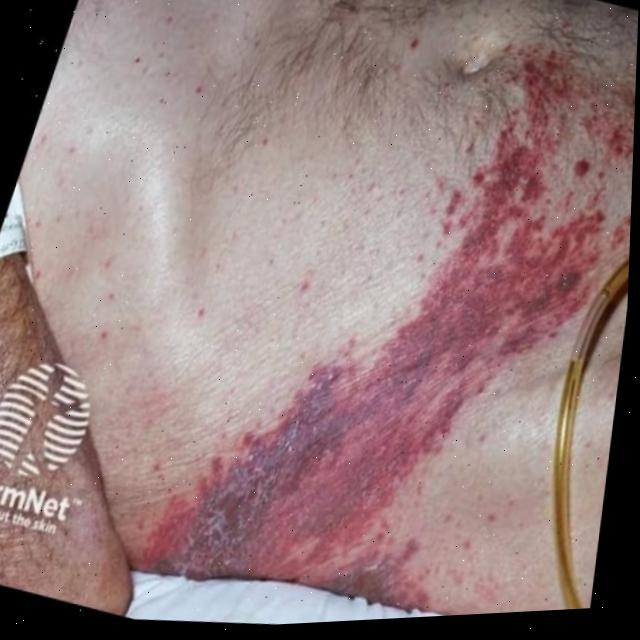Shingles: (124, 98, 624, 632)
